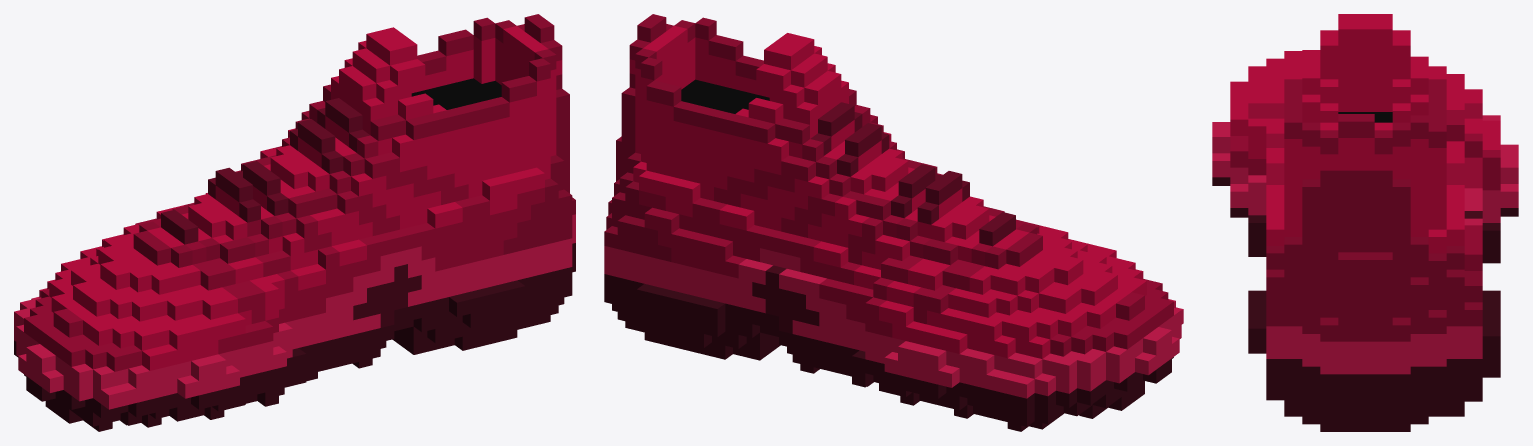
File: Sacred Red.fbx
3 renders of one model, left to right at view 1: azimuth 30°, elevation 25°; view 2: azimuth 150°, elevation 25°; view 3: azimuth 270°, elevation 25°, orthographic. The views are drawn at different scales.
Parts seen in each view (by area): view 1: Untitled; view 2: Untitled; view 3: Untitled.
Boxes of the visible parts, bbox=[...] form: Untitled: bbox=[14, 14, 575, 431]; Untitled: bbox=[604, 14, 1183, 431]; Untitled: bbox=[1212, 14, 1518, 431].
Size of the model in its own units: 390 by 200 by 170.
